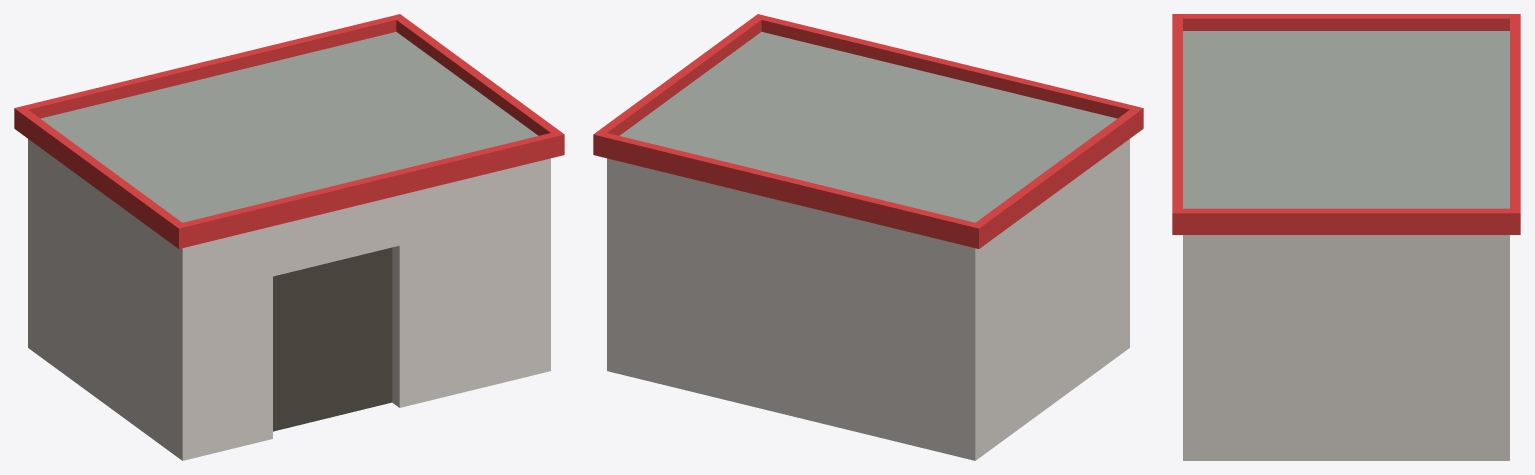
Rendered from hospital-top.fbx.
3 views of the same model, side by side, from view 1: azimuth 30°, elevation 25°; view 2: azimuth 150°, elevation 25°; view 3: azimuth 270°, elevation 25° (orthographic). The views are drawn at different scales.
Visible parts, largest first — view 1: pCube1910; view 2: pCube1910; view 3: pCube1910.
Part boxes in pixels (x1,y1,x2,y2): pCube1910: [14, 14, 564, 460]; pCube1910: [593, 14, 1143, 460]; pCube1910: [1172, 14, 1520, 460].
Bounding box in the file's own units: 22.08 × 13.02 × 16.32.
